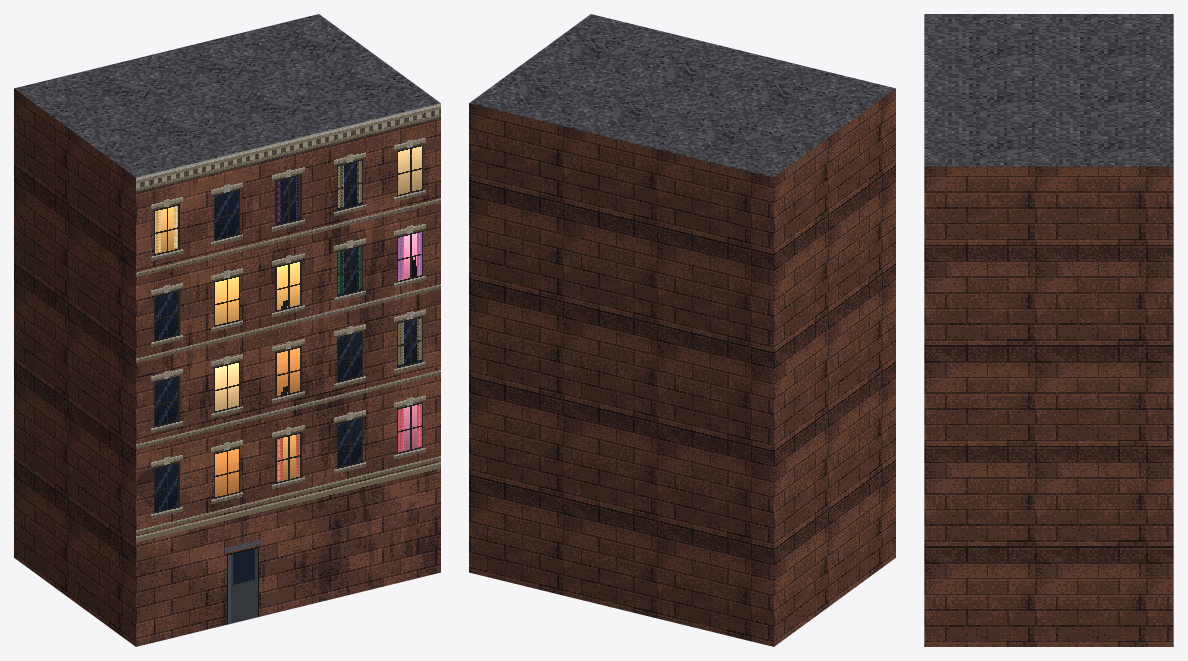
Rendered from Kulisse_2.glb.
3 views of the same model, side by side, from view 1: azimuth 30°, elevation 25°; view 2: azimuth 150°, elevation 25°; view 3: azimuth 270°, elevation 25° (orthographic). The views are drawn at different scales.
Parts seen in each view (by area): view 1: Kulisse_2; view 2: Kulisse_2; view 3: Kulisse_2.
Part boxes in pixels (x1,y1,x2,y2): Kulisse_2: [14, 14, 440, 646]; Kulisse_2: [469, 14, 895, 646]; Kulisse_2: [924, 14, 1173, 646].
Bounding box in the file's own units: 13 × 19.12 × 9.
3 materials, 3 textured.
